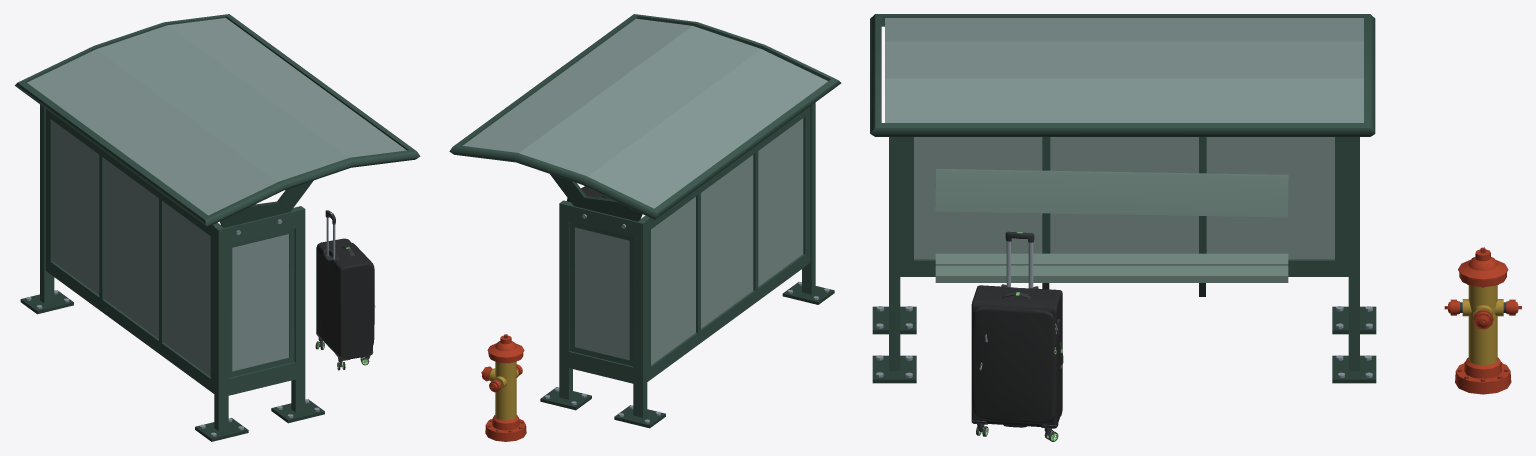
3 renders of one model, left to right at view 1: azimuth 30°, elevation 25°; view 2: azimuth 150°, elevation 25°; view 3: azimuth 270°, elevation 25°, orthographic. The views are drawn at different scales.
Visible parts, largest first — view 1: bus_station, luggage; view 2: bus_station, hydrant; view 3: bus_station, luggage, hydrant.
Boxes of the visible parts, bbox=[...] form: bus_station: bbox=[15, 14, 420, 441]; luggage: bbox=[315, 210, 375, 370]; bus_station: bbox=[449, 14, 841, 428]; hydrant: bbox=[481, 334, 526, 441]; bus_station: bbox=[870, 14, 1376, 383]; luggage: bbox=[971, 231, 1063, 441]; hydrant: bbox=[1444, 247, 1521, 394].
Size of the model in its own units: 13.22 by 14.6 by 26.27.
